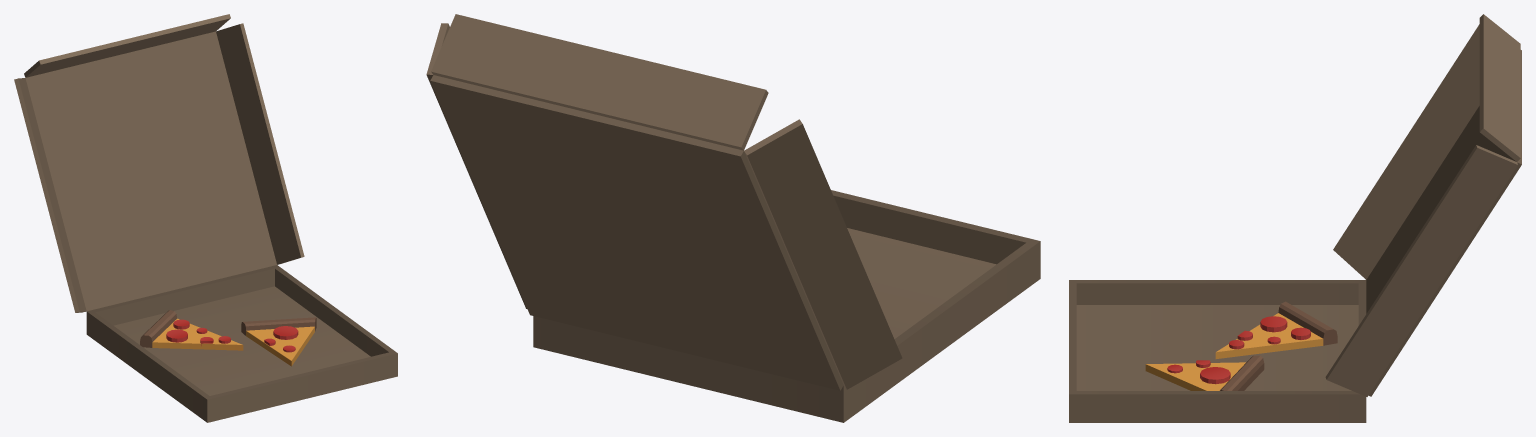
Rendered from SM_Pizza.fbx.
3 renders of one model, left to right at view 1: azimuth 30°, elevation 25°; view 2: azimuth 150°, elevation 25°; view 3: azimuth 270°, elevation 25°, orthographic. The views are drawn at different scales.
Visible parts, largest first — view 1: pizza.003, pizza.001, Cube.002, Cube.003; view 2: pizza.003, pizza.001; view 3: pizza.001, pizza.003, Cube.003, Cube.002.
Part boxes in pixels (x1=…): pizza.003: x1=14, y1=14, x2=304, y2=312; pizza.001: x1=86, y1=265, x2=397, y2=422; Cube.002: x1=241, y1=317, x2=316, y2=366; Cube.003: x1=140, y1=310, x2=243, y2=350; pizza.003: x1=426, y1=14, x2=902, y2=390; pizza.001: x1=533, y1=190, x2=1040, y2=422; pizza.001: x1=1069, y1=280, x2=1366, y2=422; pizza.003: x1=1325, y1=14, x2=1521, y2=396; Cube.003: x1=1215, y1=301, x2=1337, y2=358; Cube.002: x1=1145, y1=355, x2=1264, y2=390.
Bounding box in the file's own units: 56.69 × 57.47 × 80.09.
